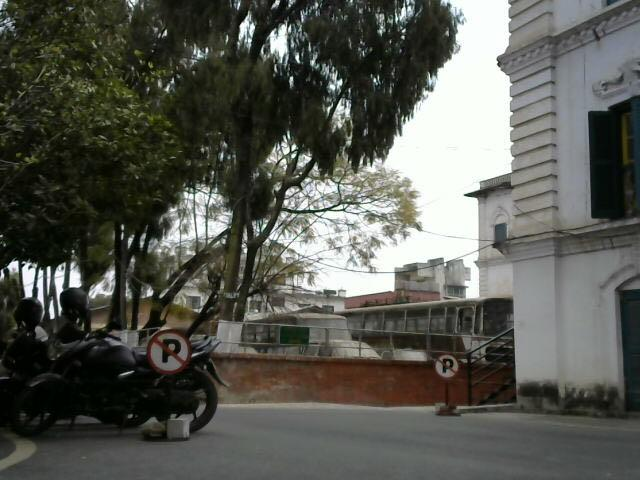Building: (502, 2, 640, 427)
Motorcycle: (0, 265, 250, 438)
Road: (229, 405, 640, 480)
Traffic sign: (135, 326, 206, 465), (434, 351, 463, 423)
Tree: (0, 0, 427, 300)
